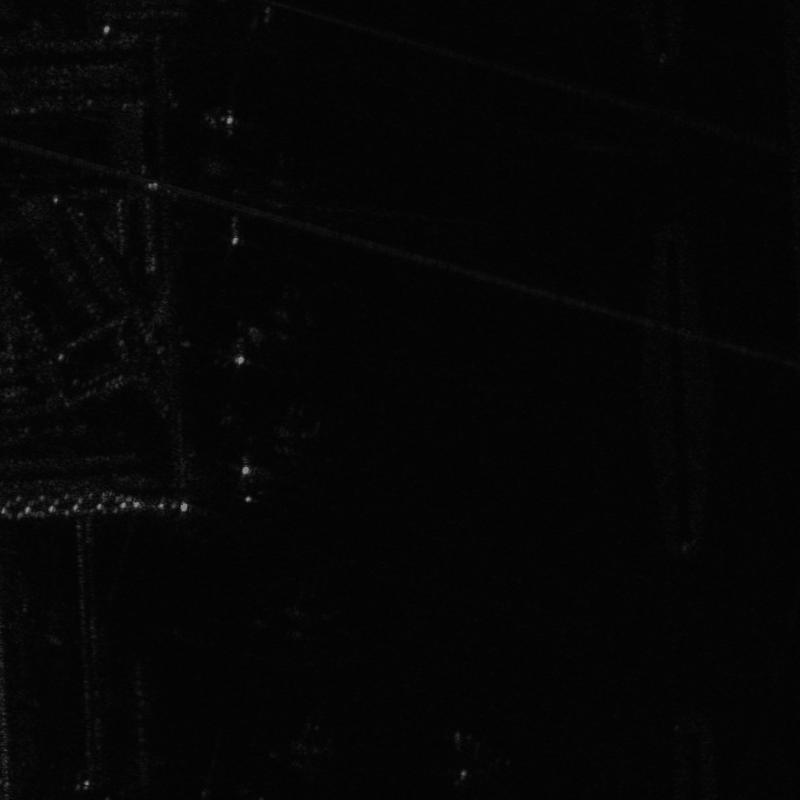A220: (236, 272, 344, 369), (239, 391, 341, 474), (268, 704, 357, 782), (261, 582, 343, 659)
other: (416, 720, 528, 791)
